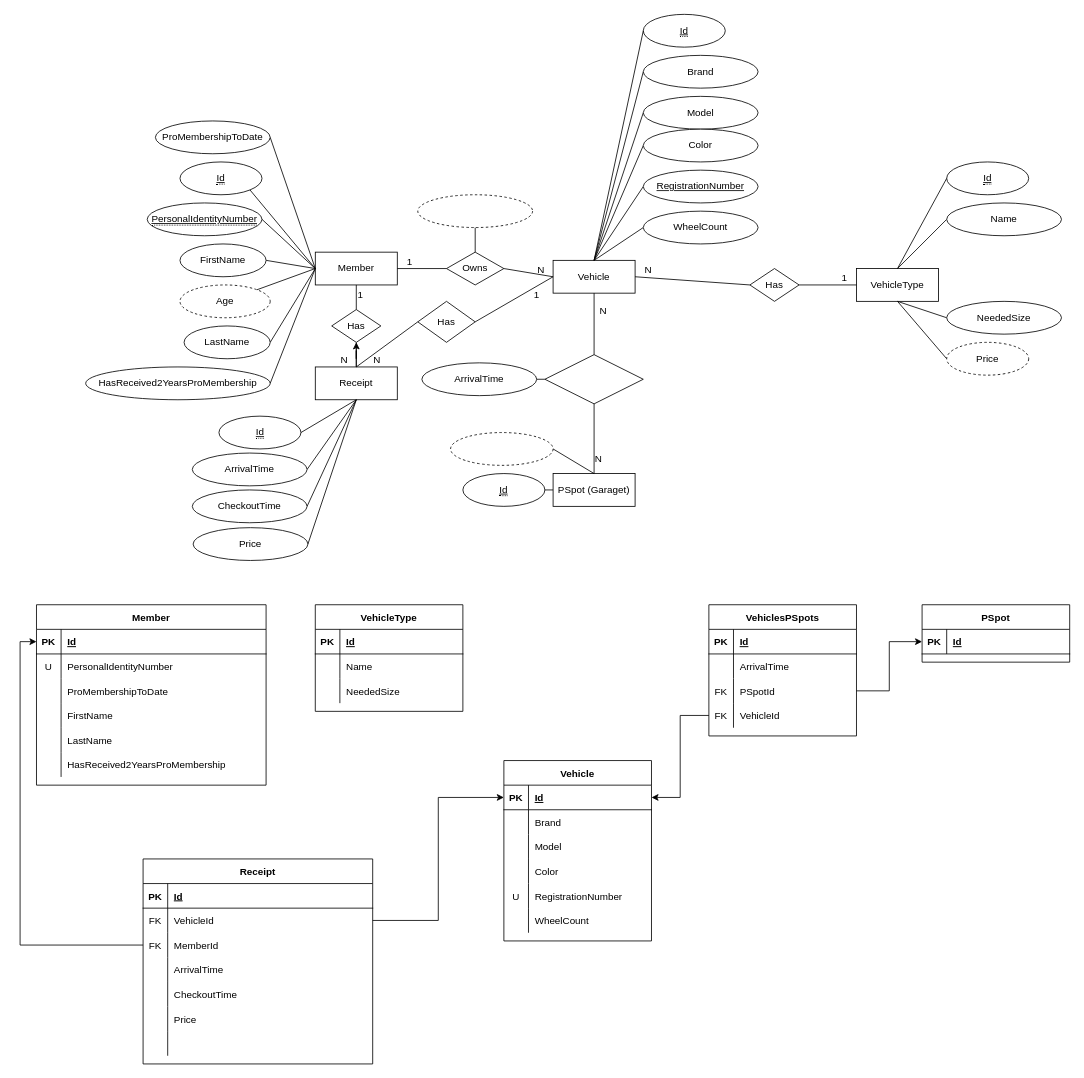
The diagram is 1084 pixels wide and 1078 high, and some of its shapes have lost their labels. The centre of each missing label's shape, as x and y in pixels:
"Has (is parked)" belongs at point 593,379.
"NrOfVehiclesOwned" belongs at point 475,211.
"TotalSizeOccupied" belongs at point 501,448.
